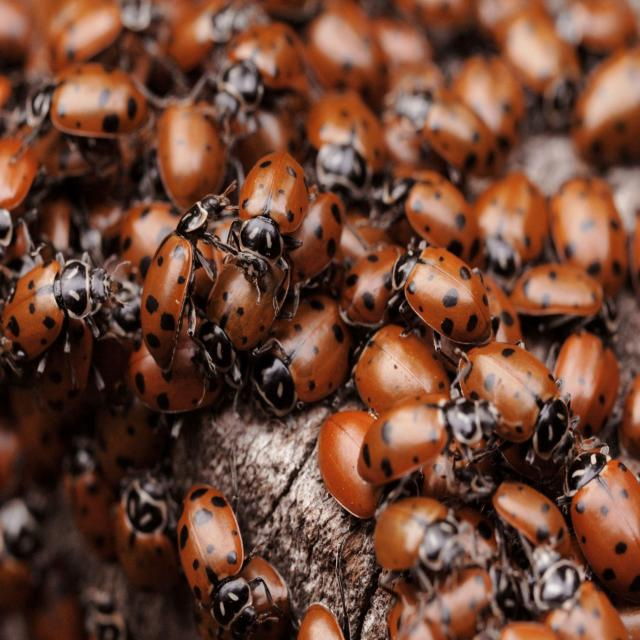ladybug: (141, 193, 244, 380), (178, 485, 283, 638), (459, 342, 570, 460), (357, 394, 500, 484), (253, 293, 354, 416), (0, 260, 111, 364), (566, 450, 640, 603), (200, 256, 286, 372), (392, 246, 492, 345), (548, 177, 628, 295), (26, 63, 149, 138), (126, 320, 223, 413), (355, 324, 450, 413), (308, 91, 385, 199), (307, 0, 386, 104), (572, 49, 640, 168), (318, 410, 390, 519), (474, 173, 548, 278), (502, 9, 581, 107), (95, 381, 169, 485), (240, 152, 309, 261), (534, 561, 629, 640), (222, 23, 310, 108), (113, 479, 179, 591), (405, 171, 481, 267), (157, 106, 227, 210), (374, 497, 471, 572), (554, 330, 620, 438), (450, 55, 524, 145), (63, 438, 116, 560), (492, 481, 576, 556), (422, 89, 495, 175), (36, 320, 93, 420), (340, 245, 408, 328), (112, 201, 180, 284), (47, 0, 122, 70), (288, 193, 345, 285), (509, 263, 603, 316), (0, 498, 40, 614), (556, 0, 636, 54), (0, 139, 38, 248), (482, 273, 522, 344)
